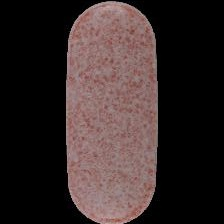68788-6407: (0, 0, 224, 224)
